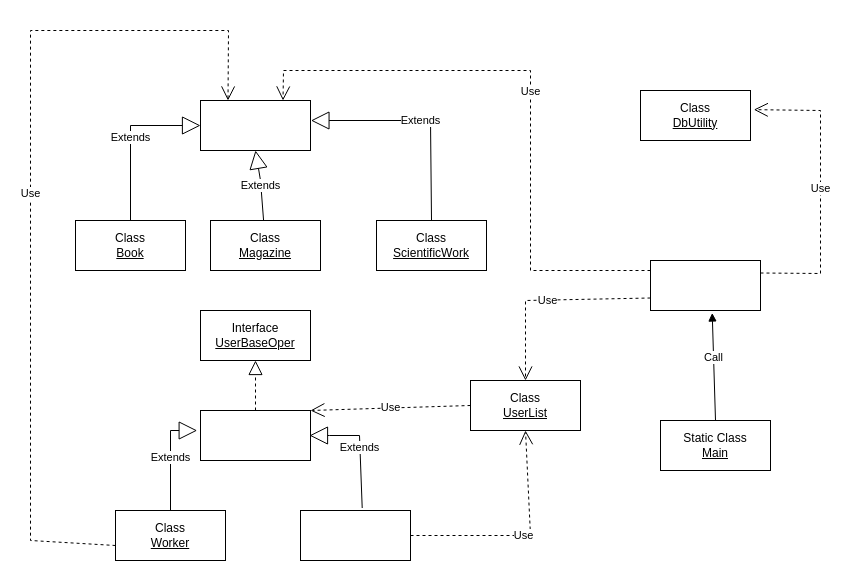
The diagram is 852 pixels wide and 578 high, and some of its shapes have lost their labels. The centre of each missing label's shape, as x and y in pixels:
"Abstract Class LibItem" belongs at (x=255, y=125).
"Abstract Class User" belongs at (x=255, y=435).
"Class Customers" belongs at (x=355, y=535).
"Class Menu" belongs at (x=705, y=285).
